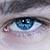eye: (16, 18, 33, 30)
